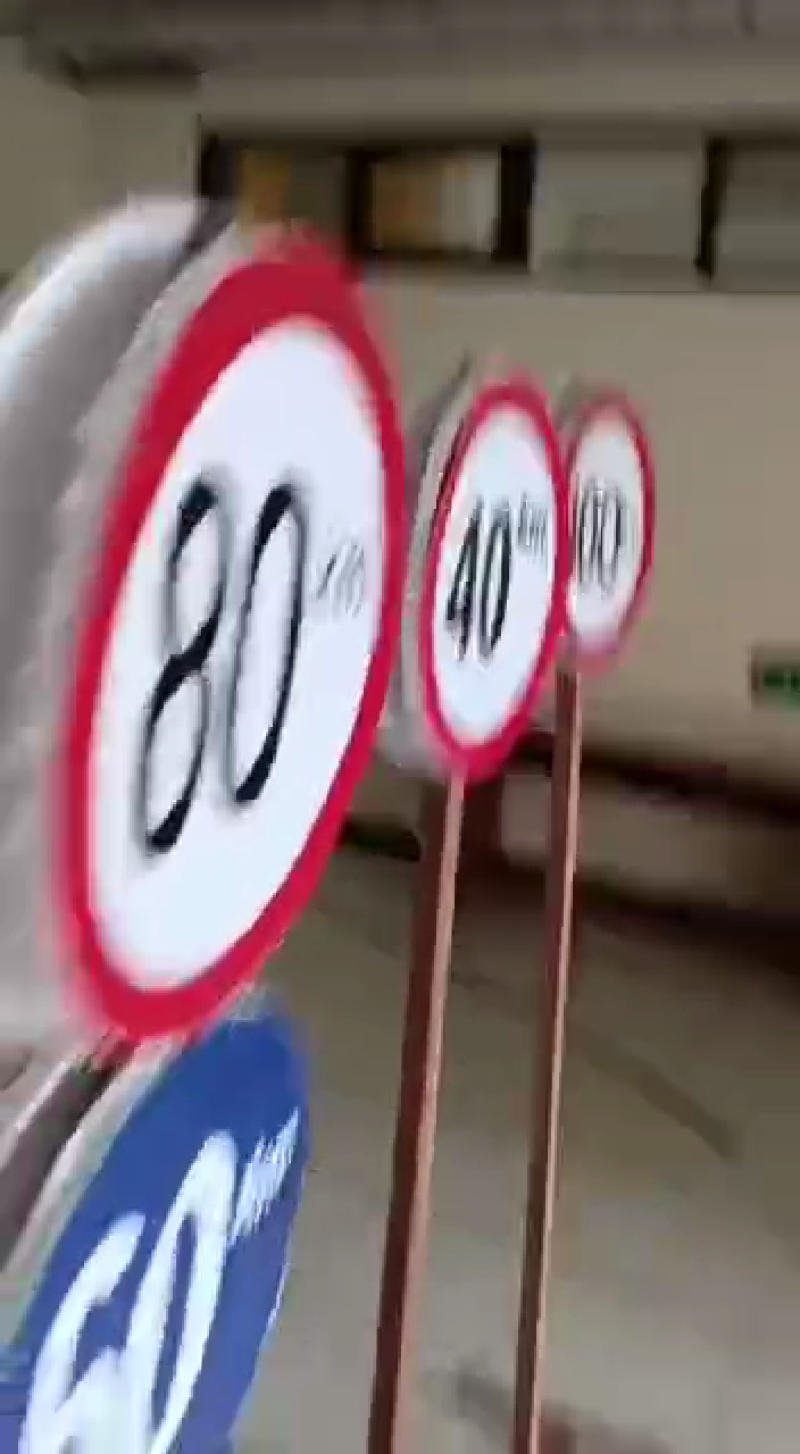batas maksimal 40kmperjam: (405, 345, 573, 779)
batas maksimal 80kmperjam minimal 60kmperjam: (1, 240, 404, 1454)
